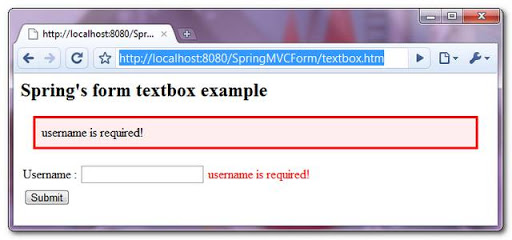error_message: (40, 125, 148, 140), (206, 168, 310, 181)
